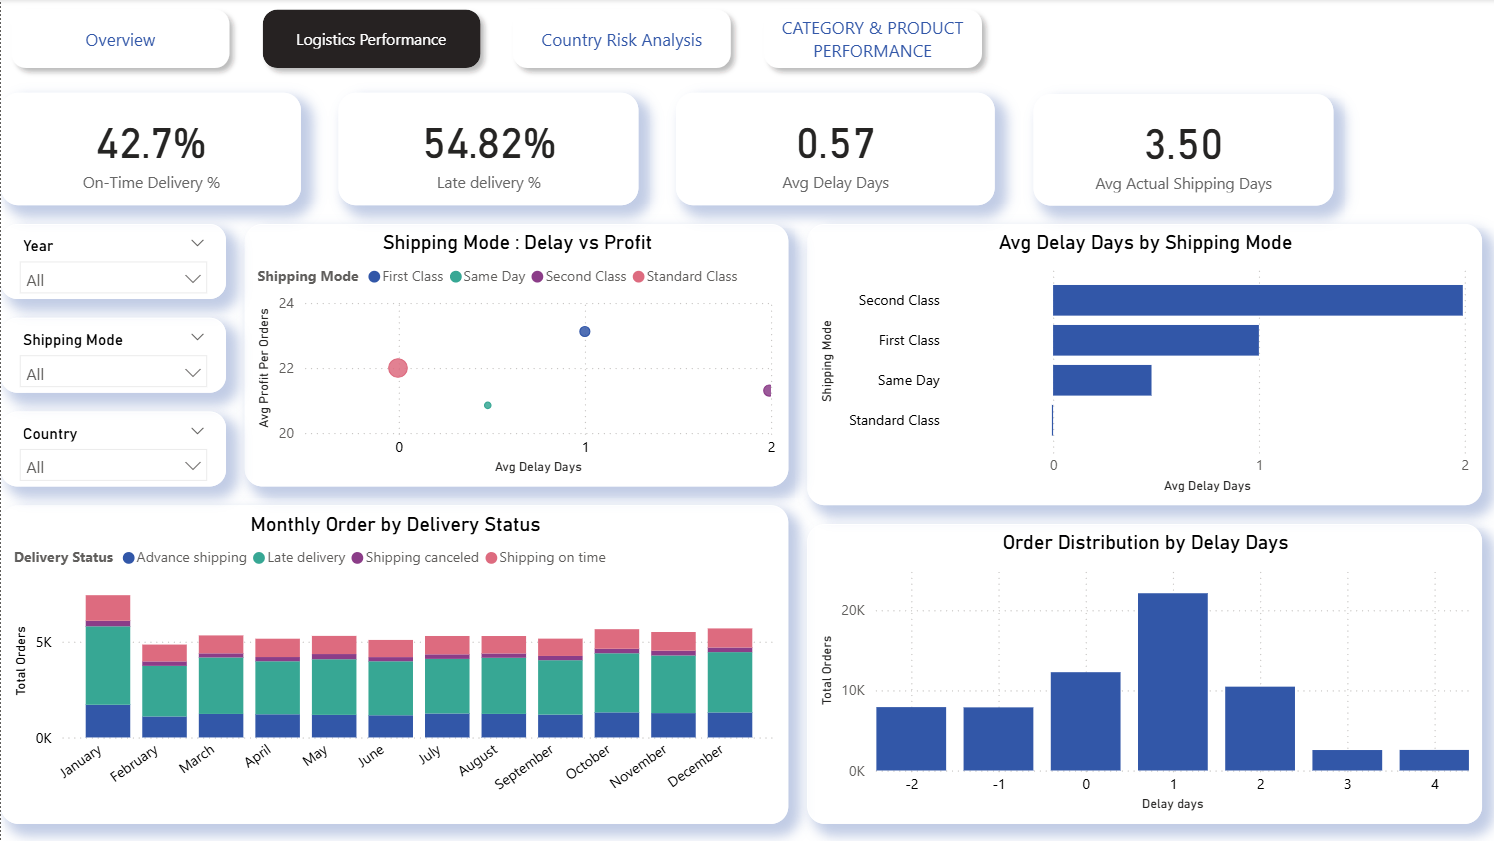

Layout of this report page (visuals, bound fields, positions):
{"tool":"powerbi","page":{"name":"Logistics Performance ","canvas":[1280,720],"ordinal":1},"visuals":[{"type":"card","fields":{"Values":["Meassure.Avg_Delay_Days"]},"box":[576,80,272,96],"z":0},{"type":"card","fields":{"Values":["Meassure.Average shiping days"]},"box":[881.4,81.4,255.8,95.3],"z":1000},{"type":"card","fields":{"Values":["Meassure.On-Time Delivery %"]},"box":[0,80,256,96],"z":2000},{"type":"card","fields":{"Values":["Meassure.Late_delivery %"]},"box":[288,80,256,96],"z":3000},{"type":"barChart","fields":{"Category":["supplychain_cleaned_data.Shipping Mode"],"Y":["Meassure.Avg_Delay_Days"]},"box":[688,192,576,240],"z":4000},{"type":"scatterChart","title":"Shipping Mode : Delay vs Profit","fields":{"X":["Meassure.Avg_Delay_Days"],"Series":["supplychain_cleaned_data.Shipping Mode"],"Y":["Meassure.Avg_Profit_Per_Orders"],"Size":["Meassure.Total Orders"]},"box":[208,192,464,224],"z":5000},{"type":"columnChart","title":"Monthly Order by Delivery Status","fields":{"Category":["supplychain_cleaned_data.order date (DateOrders).Variation.Date Hierarchy.Month"],"Series":["supplychain_cleaned_data.Delivery Status"],"Y":["Meassure.Total Orders"]},"box":[0,432,672,272],"z":6000},{"type":"clusteredColumnChart","title":"Order Distribution by Delay Days","fields":{"Y":["Meassure.Total Orders"],"Category":["supplychain_cleaned_data.Delay days"]},"box":[688,448,576,256],"z":7000},{"type":"slicer","fields":{"Values":["supplychain_cleaned_data.order_year"]},"box":[0,192,192,64],"z":8000},{"type":"slicer","fields":{"Values":["supplychain_cleaned_data.Shipping Mode"]},"box":[0,272,192,64],"z":9000},{"type":"slicer","fields":{"Values":["supplychain_cleaned_data.Order Country"]},"box":[0,352,192,64],"z":10000},{"type":"pageNavigator","box":[0,0,848.4,68.8],"z":11000}]}

Visuals, with their boxes in screenshot pixels (x1, y1, x2, y2), scaled from the page's 1280x720 canvas onto the 1494x841 screenshot:
card - Meassure.Avg_Delay_Days: region(672, 93, 990, 206)
card - Meassure.Average shiping days: region(1029, 95, 1327, 206)
card - Meassure.On-Time Delivery %: region(0, 93, 299, 206)
card - Meassure.Late_delivery %: region(336, 93, 635, 206)
barChart - supplychain_cleaned_data.Shipping Mode x Meassure.Avg_Delay_Days: region(803, 224, 1475, 505)
"Shipping Mode : Delay vs Profit" scatterChart: region(243, 224, 784, 486)
"Monthly Order by Delivery Status" columnChart: region(0, 505, 784, 822)
"Order Distribution by Delay Days" clusteredColumnChart: region(803, 523, 1475, 822)
slicer - supplychain_cleaned_data.order_year: region(0, 224, 224, 299)
slicer - supplychain_cleaned_data.Shipping Mode: region(0, 318, 224, 392)
slicer - supplychain_cleaned_data.Order Country: region(0, 411, 224, 486)
pageNavigator: region(0, 0, 990, 80)
